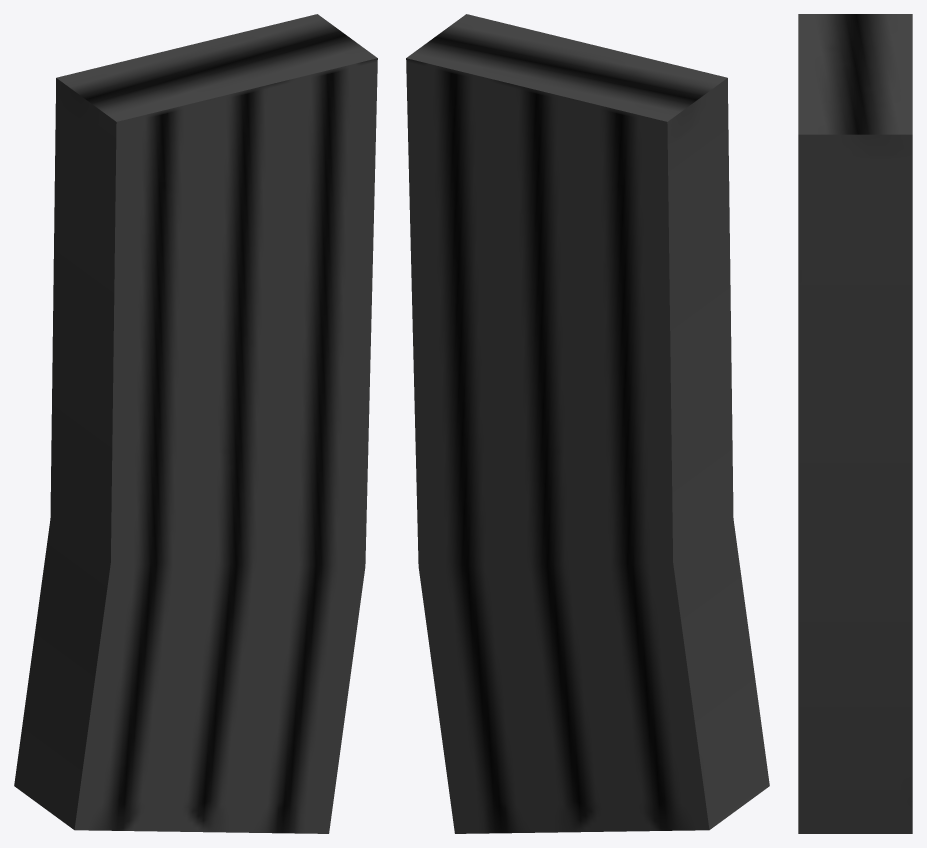
File: AR15Mag.glb
3 views of the same model, side by side, from view 1: azimuth 30°, elevation 25°; view 2: azimuth 150°, elevation 25°; view 3: azimuth 270°, elevation 25° (orthographic). The views are drawn at different scales.
Parts seen in each view (by area): view 1: Cube.017; view 2: Cube.017; view 3: Cube.017.
Part boxes in pixels (x1,y1,x2,y2): Cube.017: (14, 14, 377, 833); Cube.017: (406, 14, 769, 833); Cube.017: (798, 14, 912, 833).
Size of the model in its own units: 0.1451 by 0.3491 by 0.05.
1 material, 1 textured.
